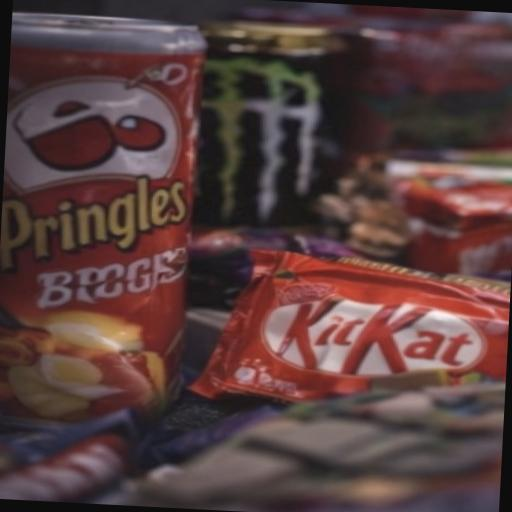kitkat: (179, 219, 512, 457)
